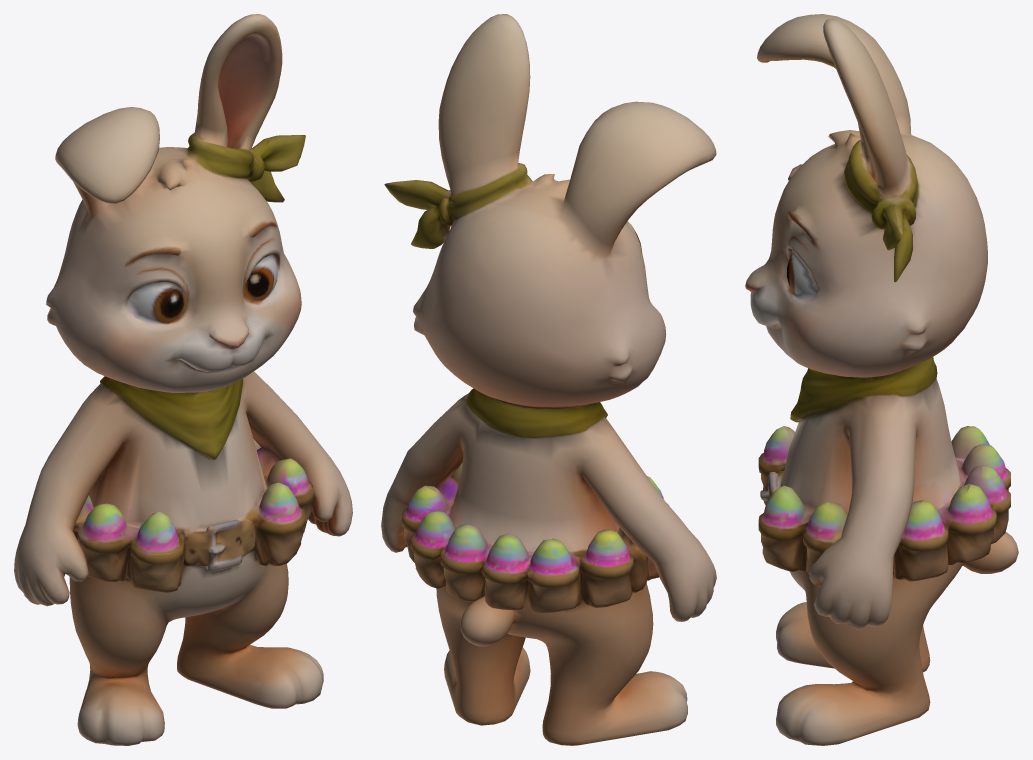
File: Llebre.glb
The picture shows the model from 3 angles, left to right: view 1: azimuth 30°, elevation 25°; view 2: azimuth 150°, elevation 25°; view 3: azimuth 270°, elevation 25°; orthographic projection. The views are drawn at different scales.
Parts seen in each view (by area): view 1: material; view 2: material; view 3: material.
Boxes of the visible parts, box(x1,y1,x2,y2) form: material: box(14, 14, 352, 745); material: box(381, 14, 716, 745); material: box(745, 14, 1018, 745).
Size of the model in its own units: 0.9393 by 1.9 by 0.6756.
Materials: 1 (1 with a texture image).
